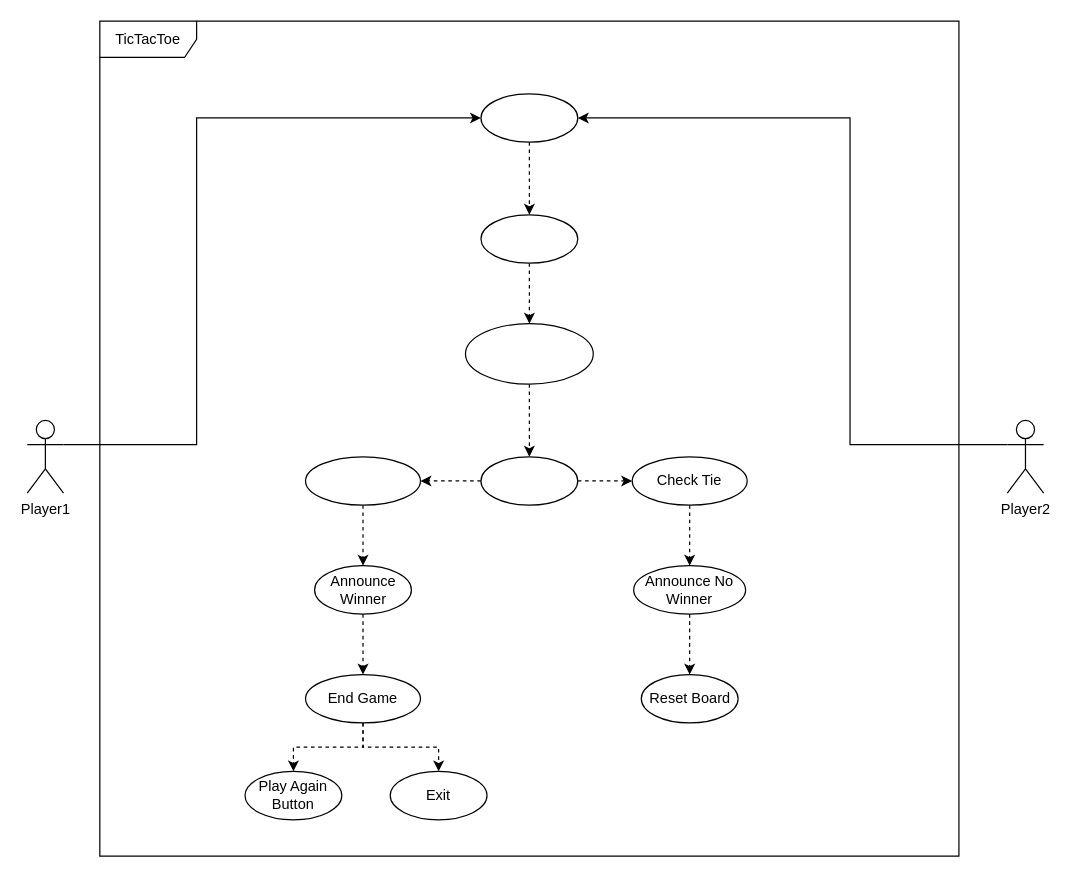
The diagram is 1071 pixels wide and 877 high, and some of its shapes have lost their labels. The shapes that lost their labels are listed below. From the top down, each one's centre as x and y in pixels, then its label:
the point at 529,117: Start Game
the point at 529,238: Setup Board
the point at 528,353: Player Move on click
the point at 362,480: Check Winner
the point at 529,480: Update Board
